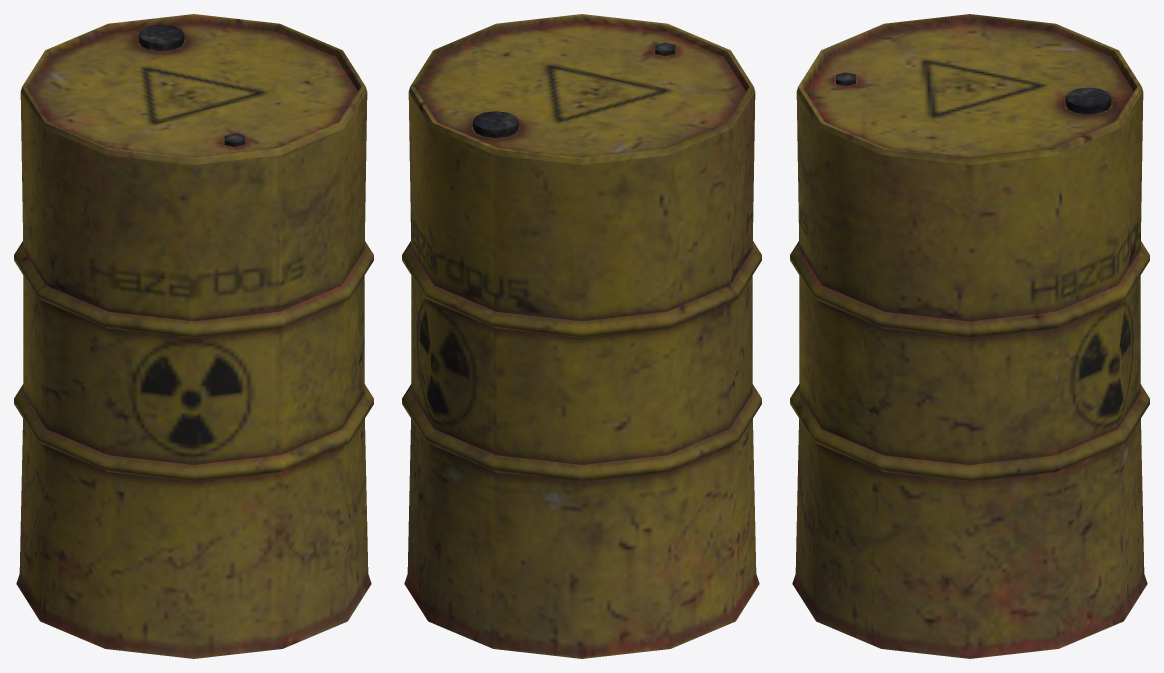
The model's file is RadioactiveBarrel.FBX.
3 views of the same model, side by side, from view 1: azimuth 30°, elevation 25°; view 2: azimuth 150°, elevation 25°; view 3: azimuth 270°, elevation 25° (orthographic).
Parts seen in each view (by area): view 1: RadioactiveBarrel; view 2: RadioactiveBarrel; view 3: RadioactiveBarrel.
Boxes of the visible parts, <box> form: RadioactiveBarrel: <box>14,14,373,658</box>; RadioactiveBarrel: <box>402,14,761,658</box>; RadioactiveBarrel: <box>790,14,1149,658</box>.
Size of the model in its own units: 61.11 by 93.63 by 61.11.
